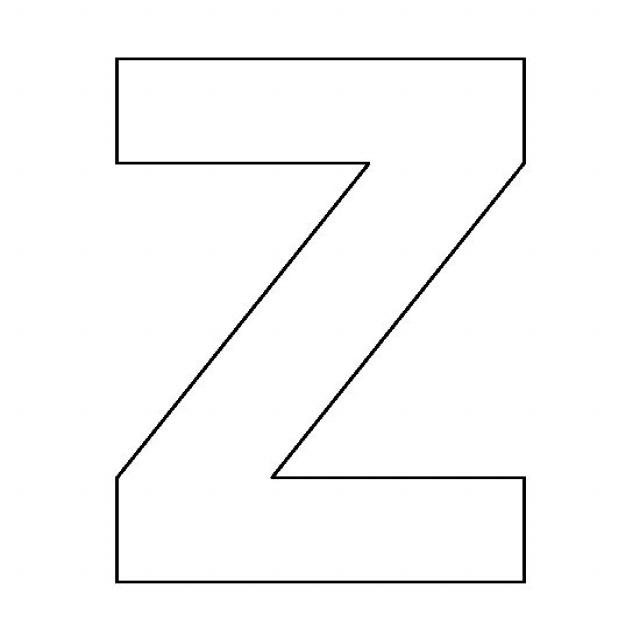Z: (66, 26, 583, 605)
